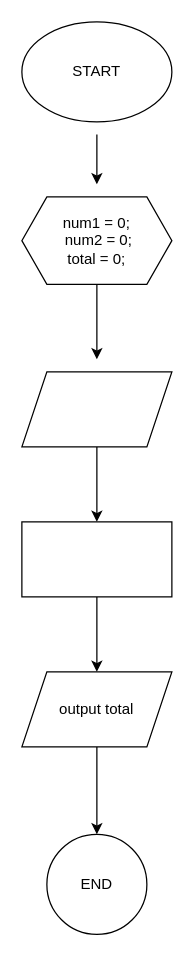
This 194x956 diagram has some shape labels left out. The shapes that lost their labels are listed below. From the top down, each one's centre as x and y in pixels, then its label:
pixel 96 409: input num1,num2
pixel 96 559: total = num1 + num2
